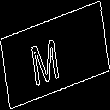M_N: (38, 25, 72, 85)
